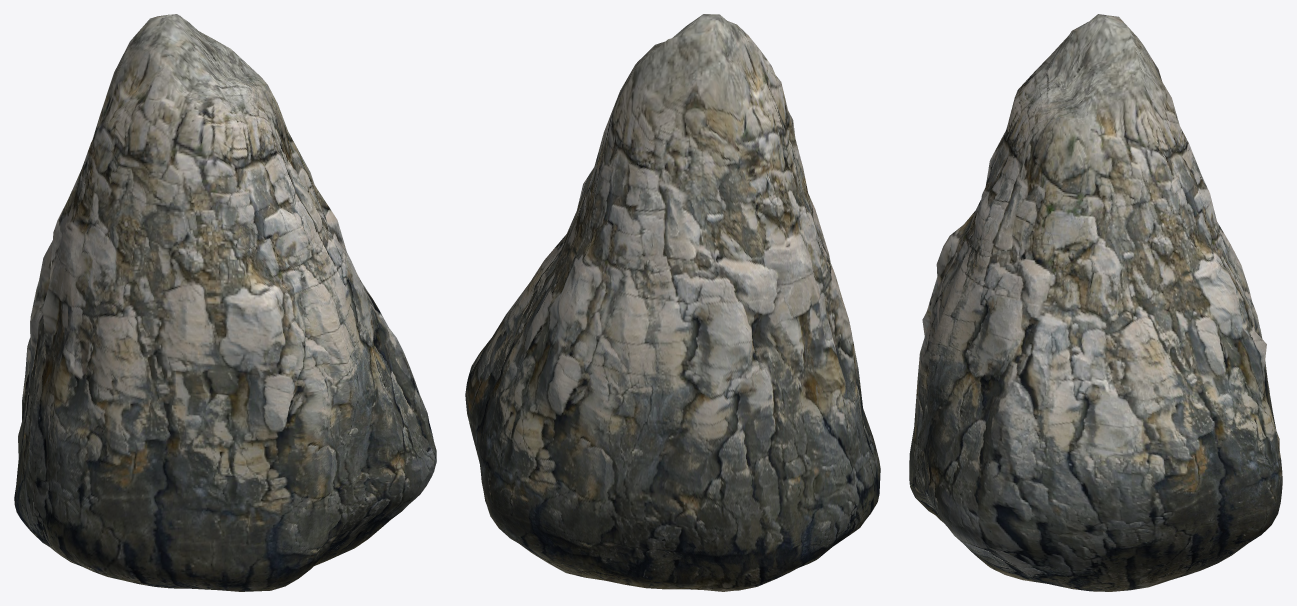
File: Rocks.obj
3 views of the same model, side by side, from view 1: azimuth 30°, elevation 25°; view 2: azimuth 150°, elevation 25°; view 3: azimuth 270°, elevation 25° (orthographic). The views are drawn at different scales.
Visible parts, largest first — view 1: rock_rock_04; view 2: rock_rock_04; view 3: rock_rock_04.
Boxes of the visible parts, x1,y1,x2,y2 form: rock_rock_04: (14, 14, 436, 591); rock_rock_04: (465, 14, 880, 591); rock_rock_04: (909, 14, 1282, 591).
Size of the model in its own units: 1.2 by 1.76 by 1.12.
1 material, 1 textured.
